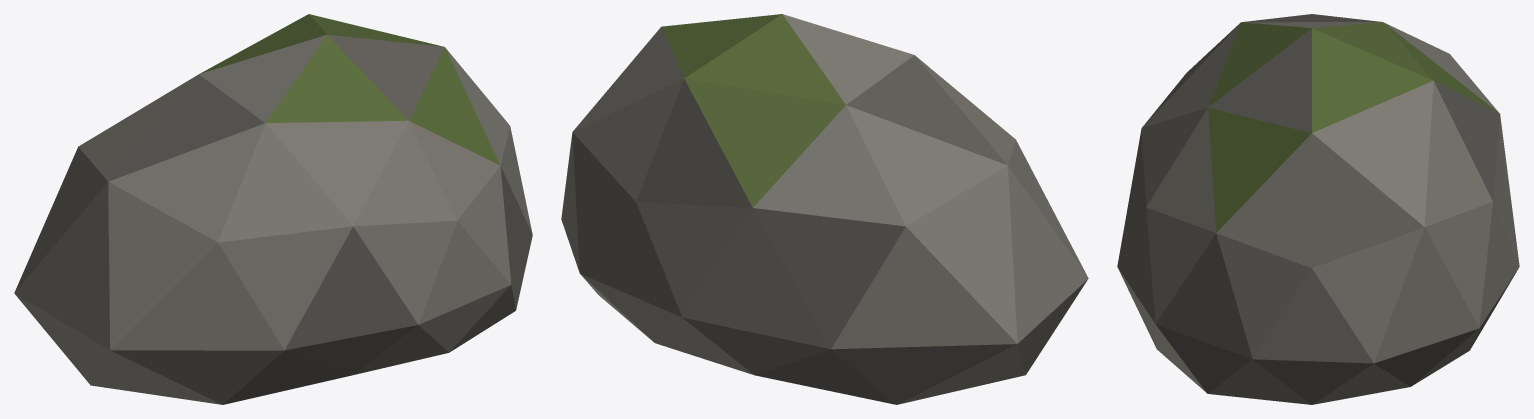
Rendered from rock_medium.glb.
3 views of the same model, side by side, from view 1: azimuth 30°, elevation 25°; view 2: azimuth 150°, elevation 25°; view 3: azimuth 270°, elevation 25° (orthographic). The views are drawn at different scales.
Parts seen in each view (by area): view 1: rock_medium; view 2: rock_medium; view 3: rock_medium.
Part boxes in pixels (box(x1,y1,x2,y2)): rock_medium: box(14, 14, 532, 404); rock_medium: box(561, 14, 1088, 404); rock_medium: box(1117, 14, 1519, 404).
Size of the model in its own units: 2.96 by 1.89 by 2.12.
